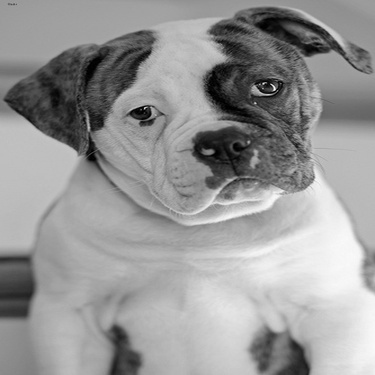dog: (6, 7, 370, 371)
